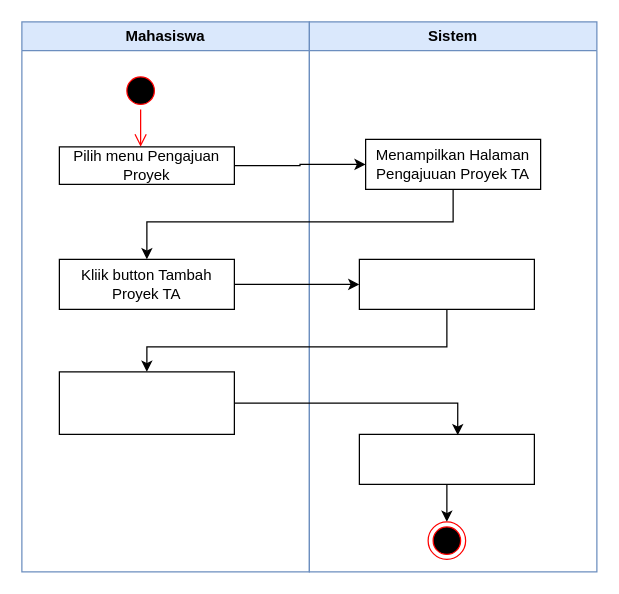
The diagram is 619 pixels wide and 594 high, and some of its shapes have lost their labels. The centre of each missing label's shape, as x and y in pixels:
Melengkaspi data judul proyek TA, Grup, tanggal pengajuan: [146,402]
Menampilkan data pengajuan: [446,458]
Menampilkan Modal form tambah proyek TA: [446,283]
